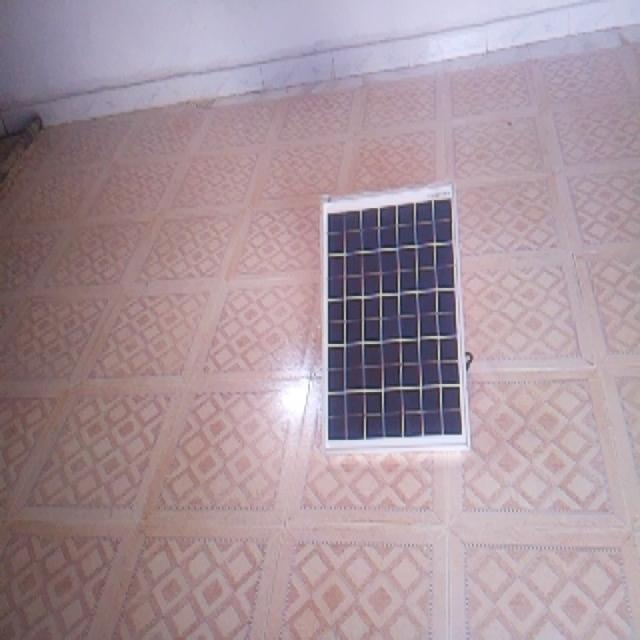Normal Solar Panel: (322, 185, 469, 451)
